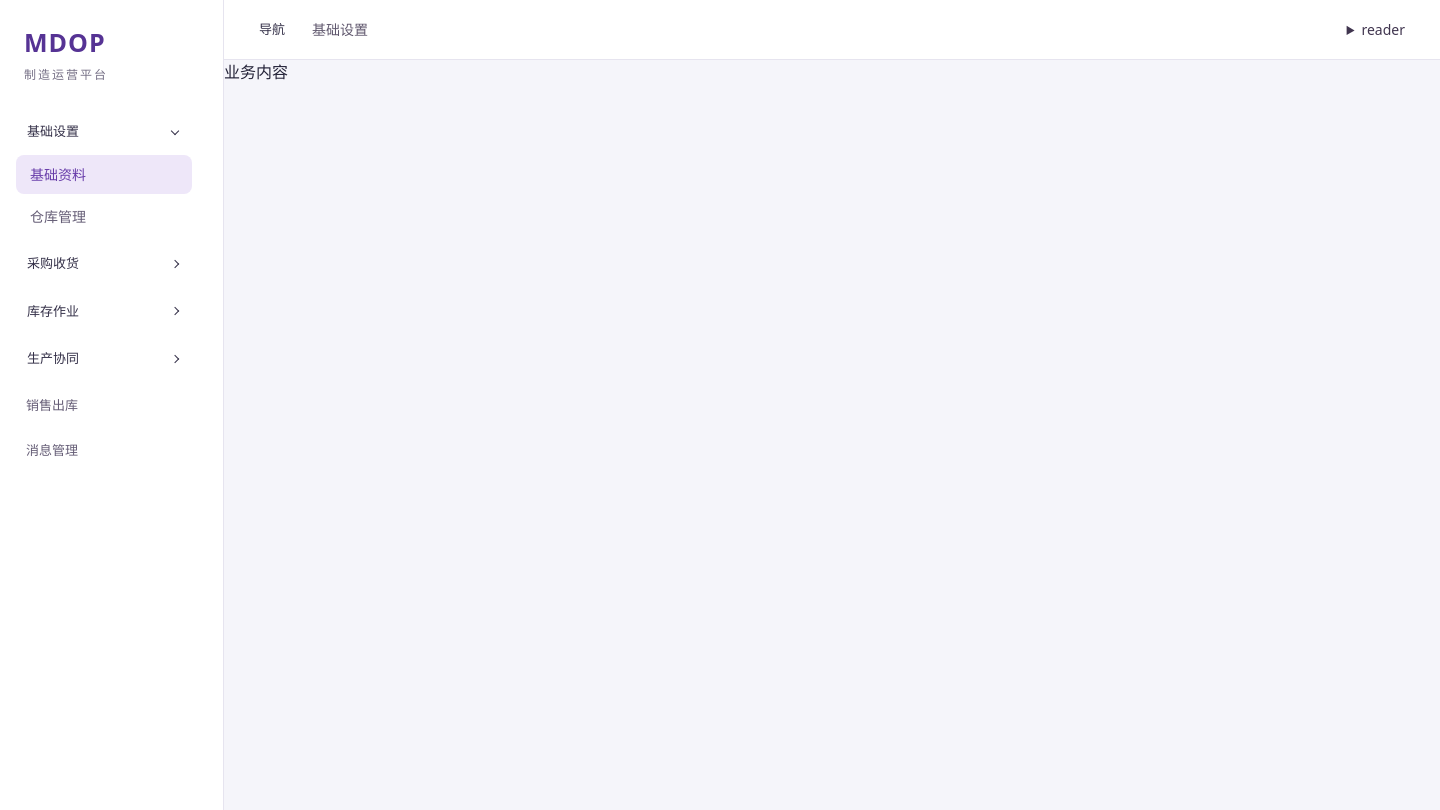
Test: keeps one group open and exposes single-item groups as direct links
Expected: the link to "/sales" is shown, [26,396,78,414]
Click the button with class "nav-group-toggle" showing "库存作业": (104,311) [16,292,192,331]
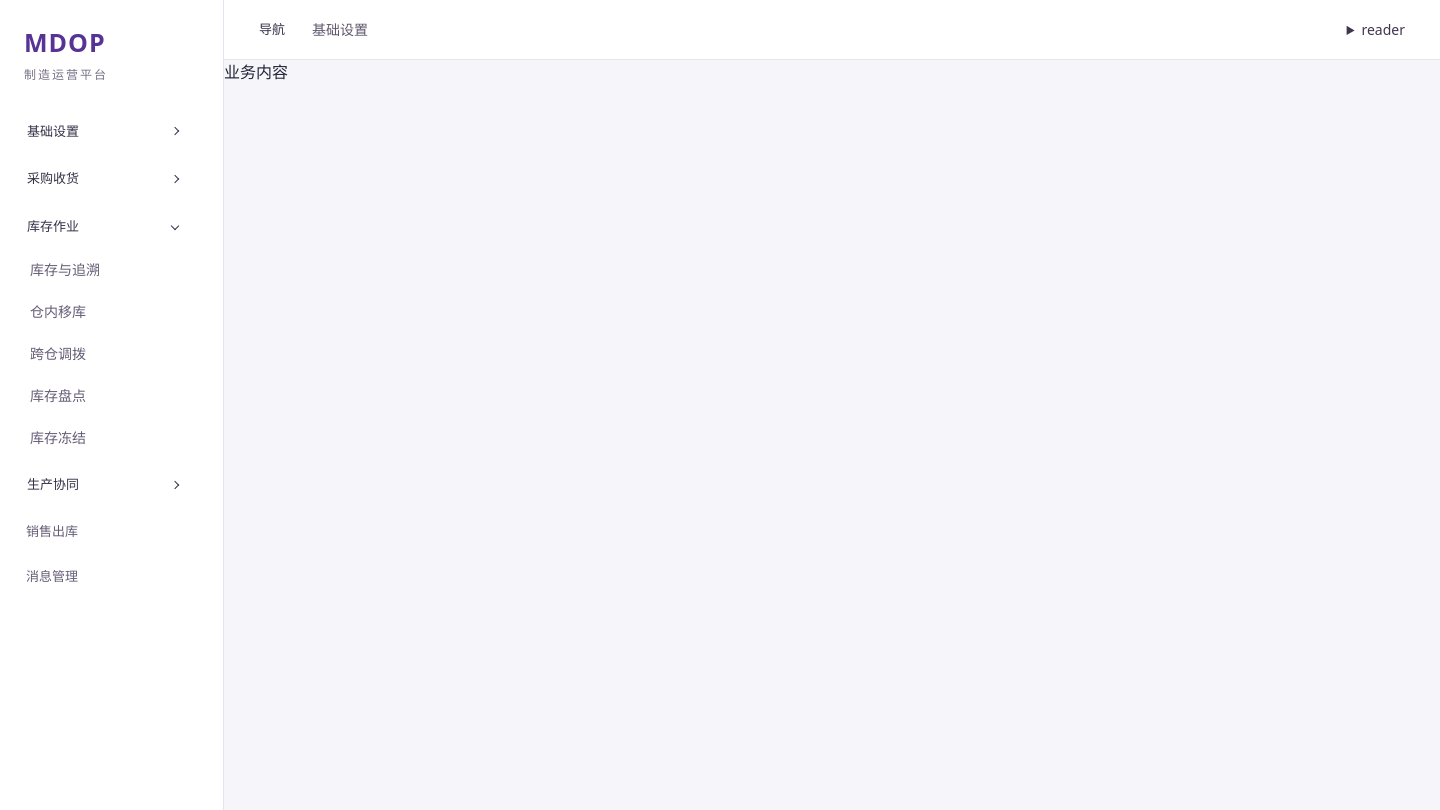
Expected: the link to "/inventory" is shown, [30,260,100,279]
Expected: the link to "/catalog" is gone
Click the button with class "nav-group-toggle" showing "库存作业": (104,226) [16,206,192,246]
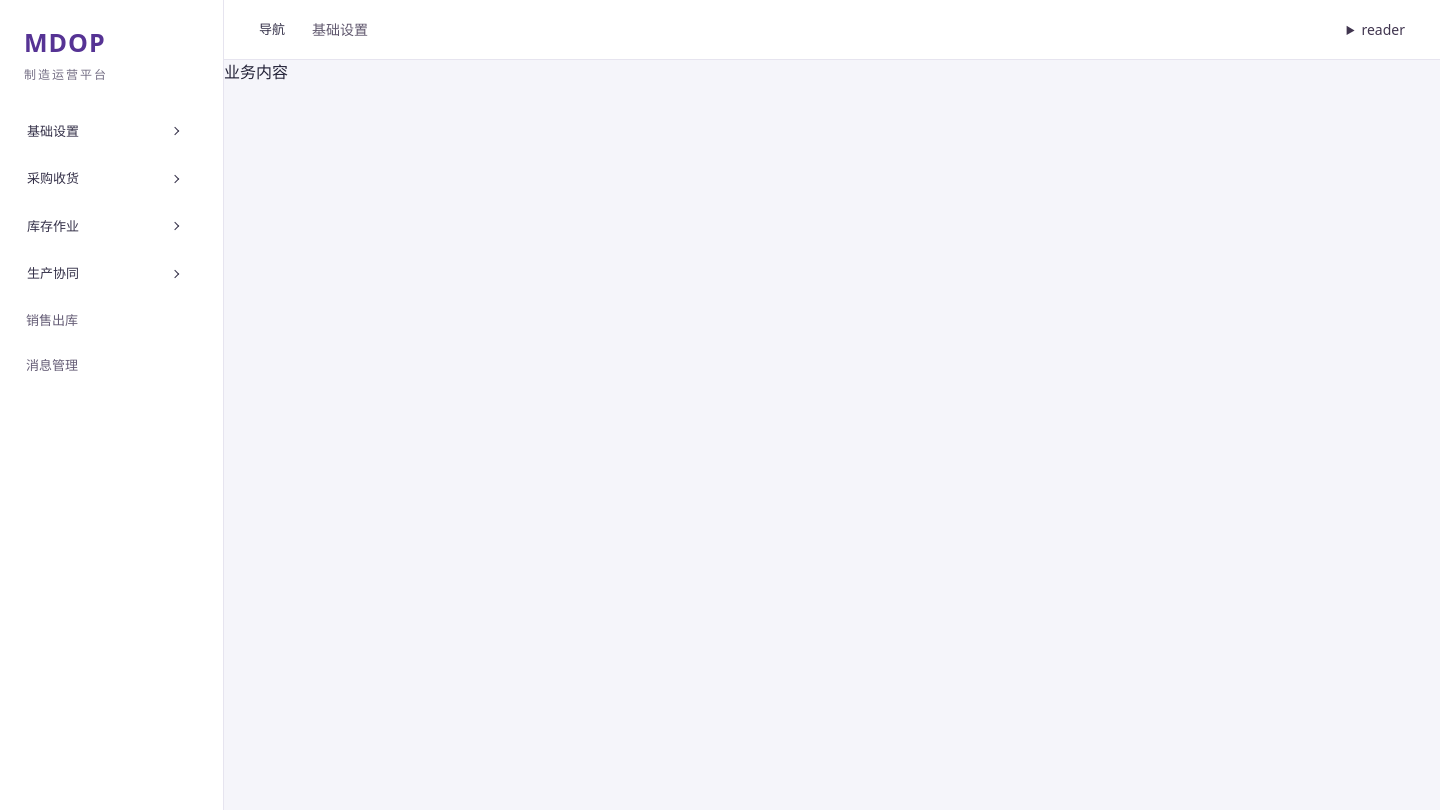
Expected: the link to "/inventory" is gone
